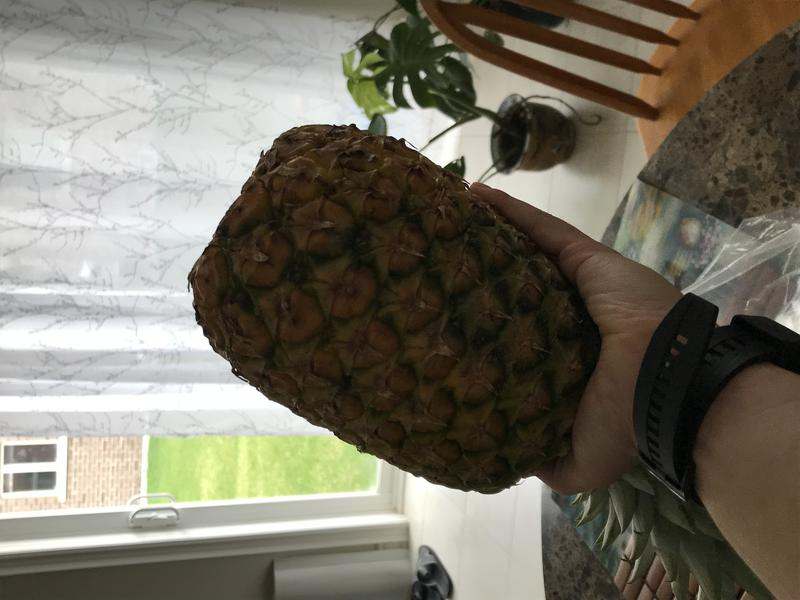pineapple: (168, 116, 766, 594)
